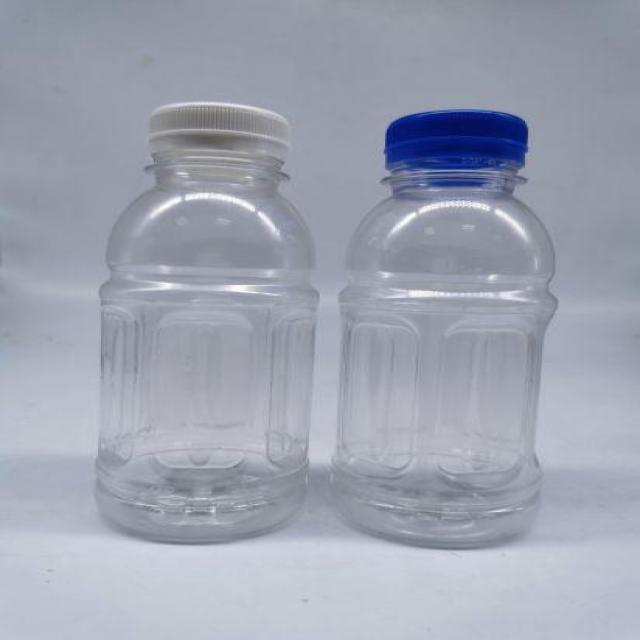bottle: (70, 83, 320, 551), (337, 82, 573, 551)
